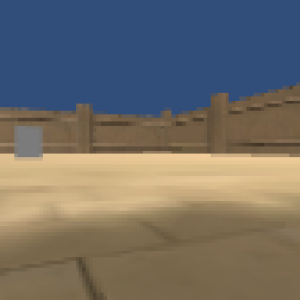wall: (14, 125, 43, 158)
